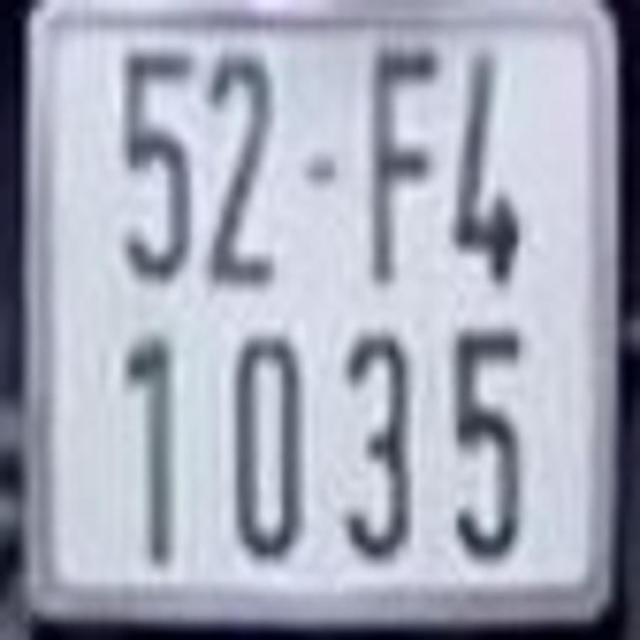0: (231, 332, 305, 559)
1: (120, 332, 183, 567)
2: (207, 49, 277, 288)
3: (343, 329, 412, 560)
4: (454, 48, 521, 288)
5: (119, 46, 195, 279), (452, 328, 524, 560)
F: (368, 43, 440, 286)
